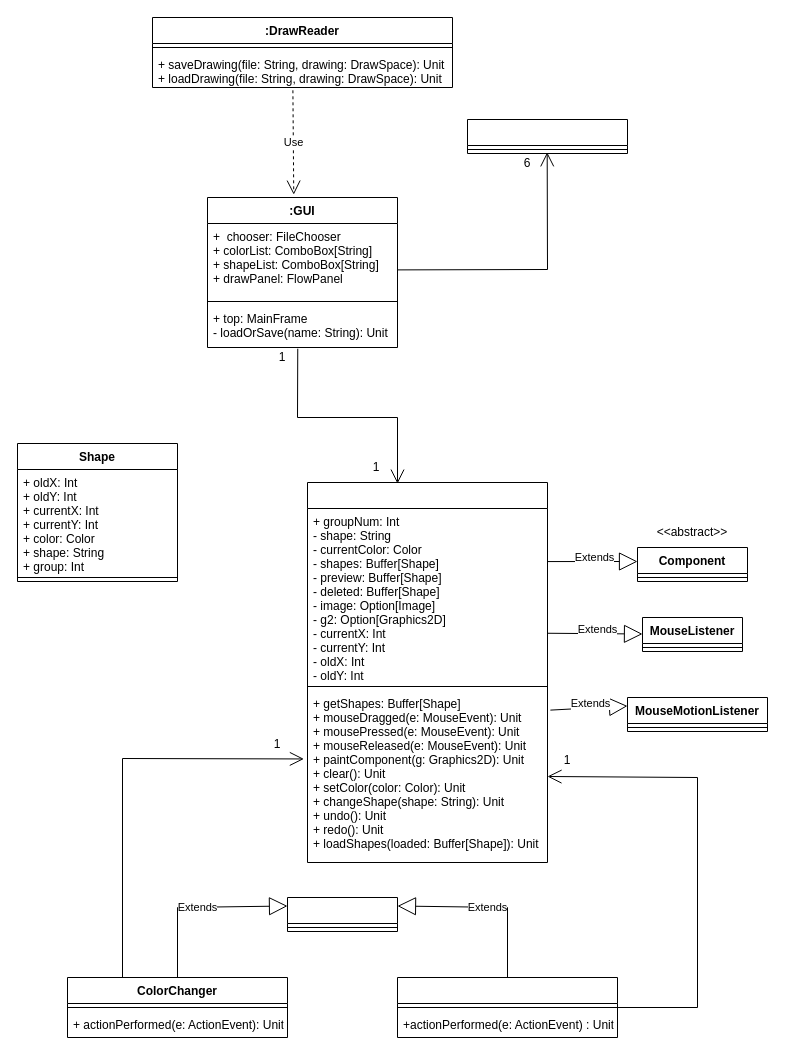
Image size: 785x1058. Some labels were removed from this diagram. Each missing label, with the box of its shape:
ActionListener: (286, 896, 398, 932)
Button: (466, 118, 628, 154)
DrawSpace: (306, 482, 548, 862)
ShapeChanger: (396, 976, 618, 1038)
